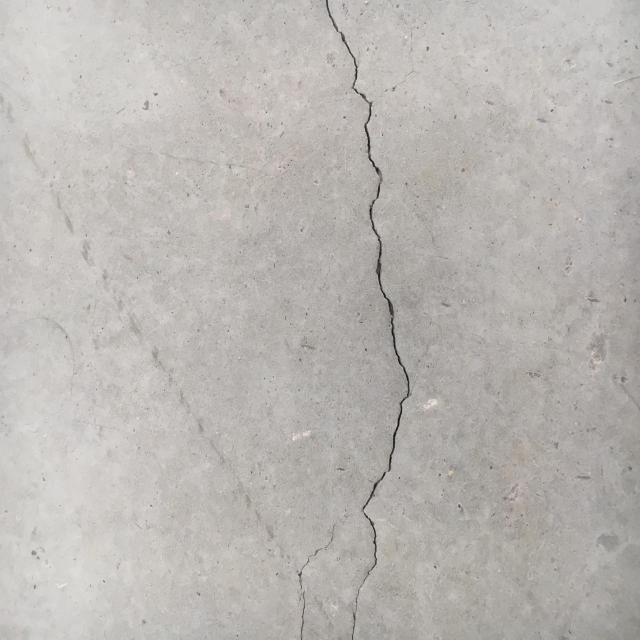SurfaceCrack: (0, 1, 298, 639), (281, 0, 445, 640)
